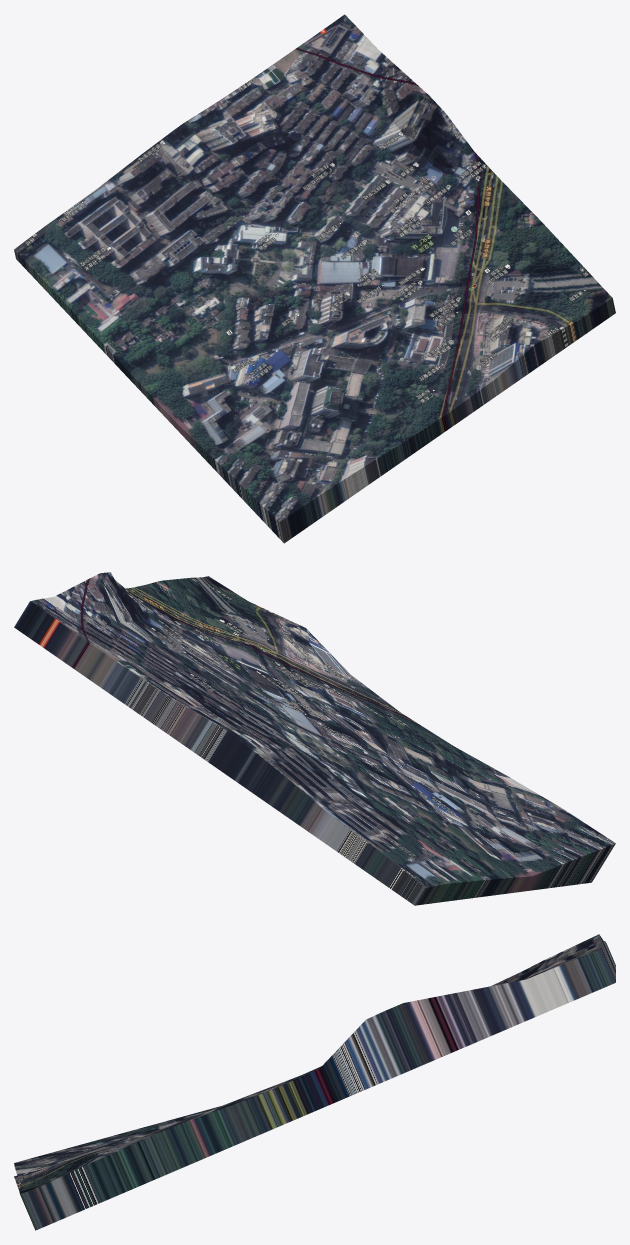
The picture shows the model from 3 angles, top to bottom: view 1: azimuth 30°, elevation 25°; view 2: azimuth 150°, elevation 25°; view 3: azimuth 270°, elevation 25°; orthographic projection. The views are drawn at different scales.
Visible parts, largest first — view 1: 0_7_17; view 2: 0_7_17; view 3: 0_7_17.
Part boxes in pixels (<box>): 0_7_17: <box>14,14,615,543</box>; 0_7_17: <box>14,572,615,905</box>; 0_7_17: <box>14,934,615,1230</box>.
Size of the model in its own units: 600 by 457 by 562.
Materials: 1 (1 with a texture image).
